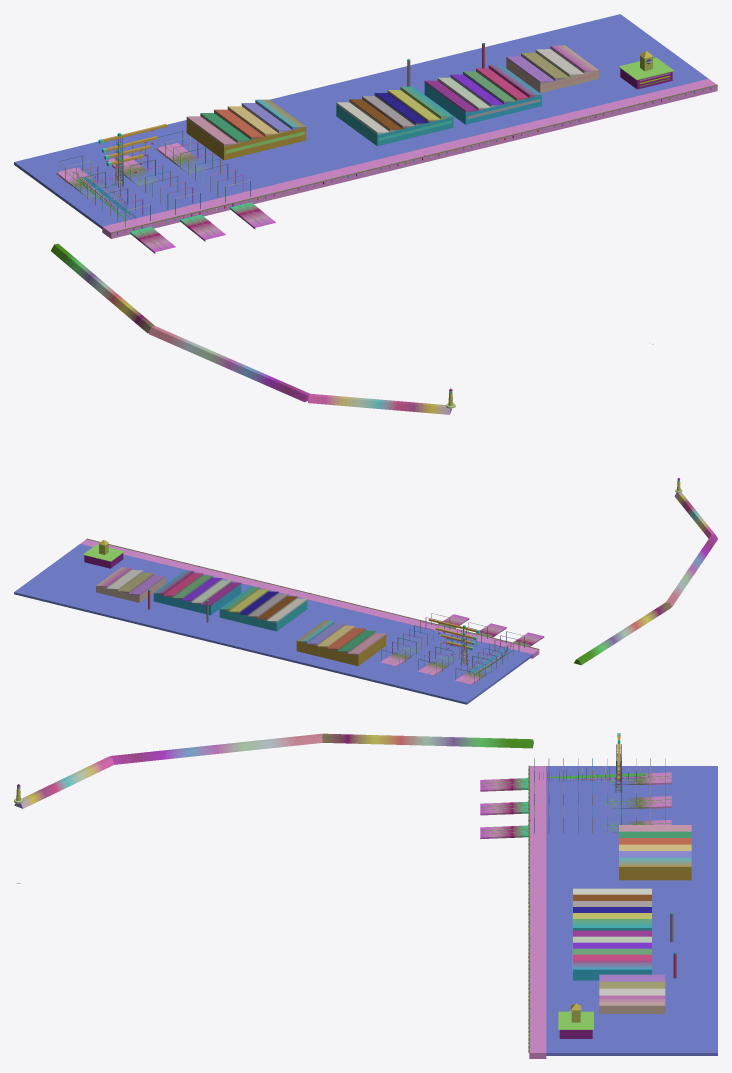
Rendered from port.glb.
3 views of the same model, one above another, from view 1: azimuth 30°, elevation 25°; view 2: azimuth 150°, elevation 25°; view 3: azimuth 270°, elevation 25° (orthographic). The views are drawn at different scales.
Visible parts, largest first — view 1: port, slip2, slip0, slip1, frame; view 2: port, slip0, slip2, slip1; view 3: port, slip1, slip0, slip2, frame.
Boxes of the visible parts, x1,y1,x2,y2 form: port: [14, 14, 717, 414]; slip2: [156, 131, 275, 229]; slip0: [56, 155, 175, 253]; slip1: [106, 145, 225, 241]; frame: [76, 167, 136, 221]; port: [14, 478, 717, 704]; slip0: [455, 631, 544, 685]; slip2: [380, 613, 469, 667]; slip1: [417, 622, 506, 676]; port: [14, 733, 717, 1058]; slip1: [480, 782, 671, 815]; slip0: [480, 758, 671, 791]; slip2: [480, 805, 671, 839]; frame: [539, 766, 651, 781].
Size of the model in its own units: 1149 by 96.6 by 1067.
